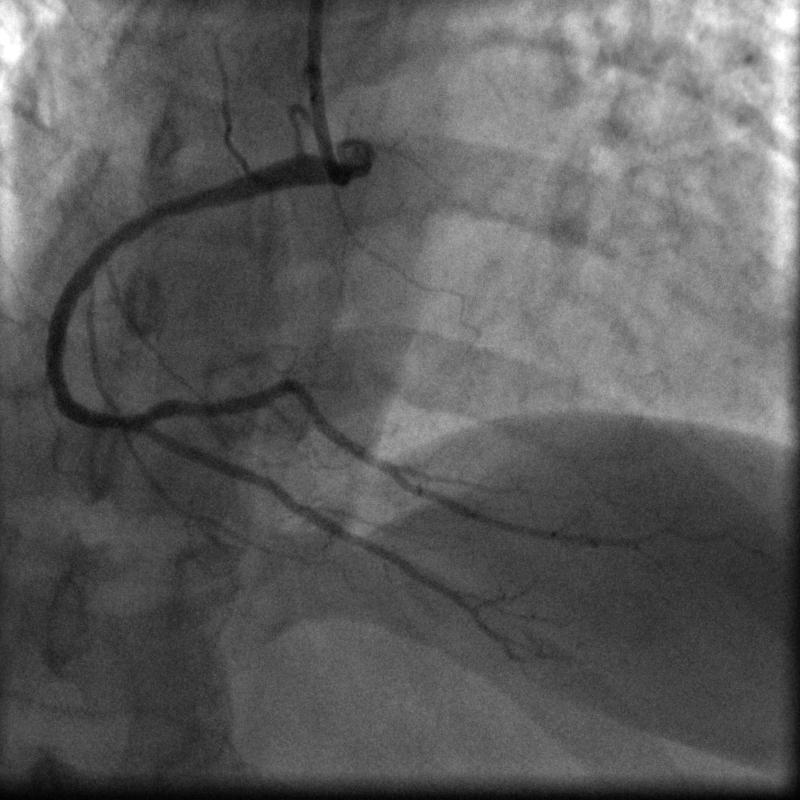Stenosis: (103, 409, 141, 432)
